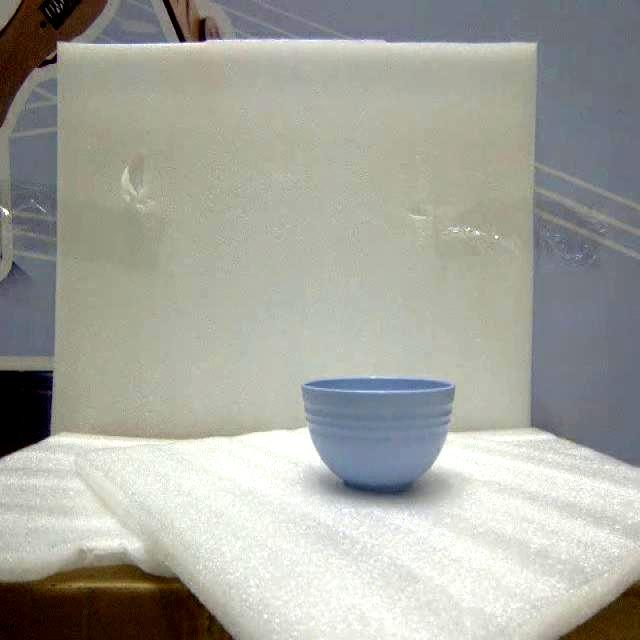Bowl: (303, 377, 454, 492)
